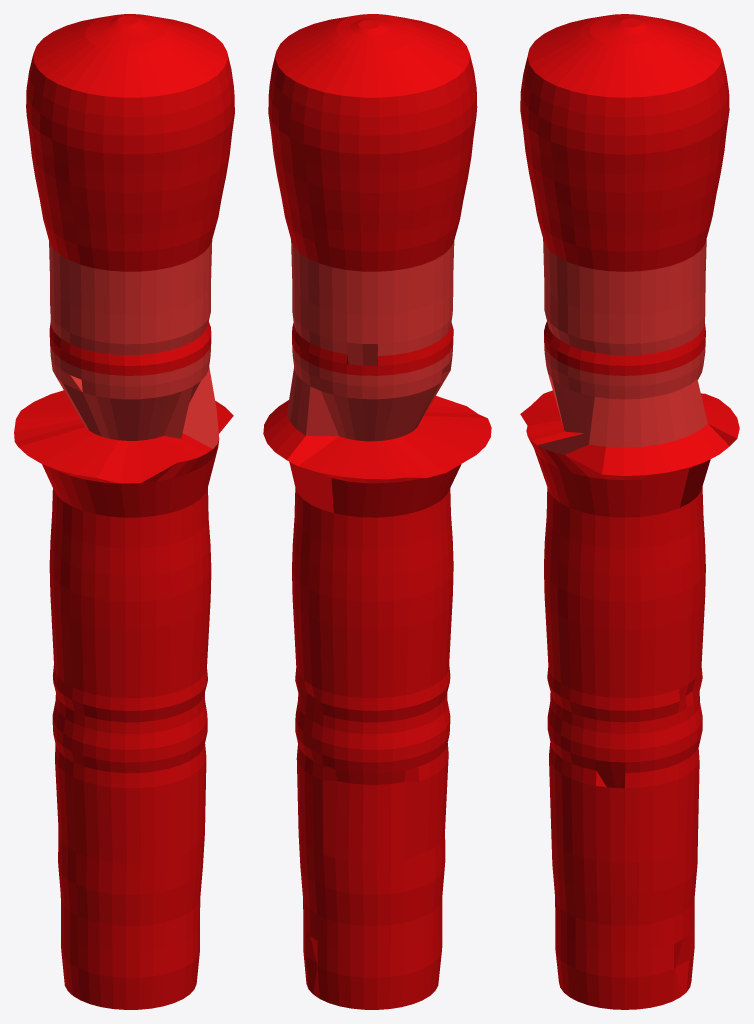
3 renders of one model, left to right at view 1: azimuth 30°, elevation 25°; view 2: azimuth 150°, elevation 25°; view 3: azimuth 270°, elevation 25°, orthographic.
Visible parts, largest first — view 1: Cylinder; view 2: Cylinder; view 3: Cylinder.
Boxes of the visible parts, x1,y1,x2,y2 form: Cylinder: (14,14,234,1009); Cylinder: (263,14,491,1009); Cylinder: (520,14,739,1009).
Bounding box in the file's own units: 86.46 × 400 × 83.01.
